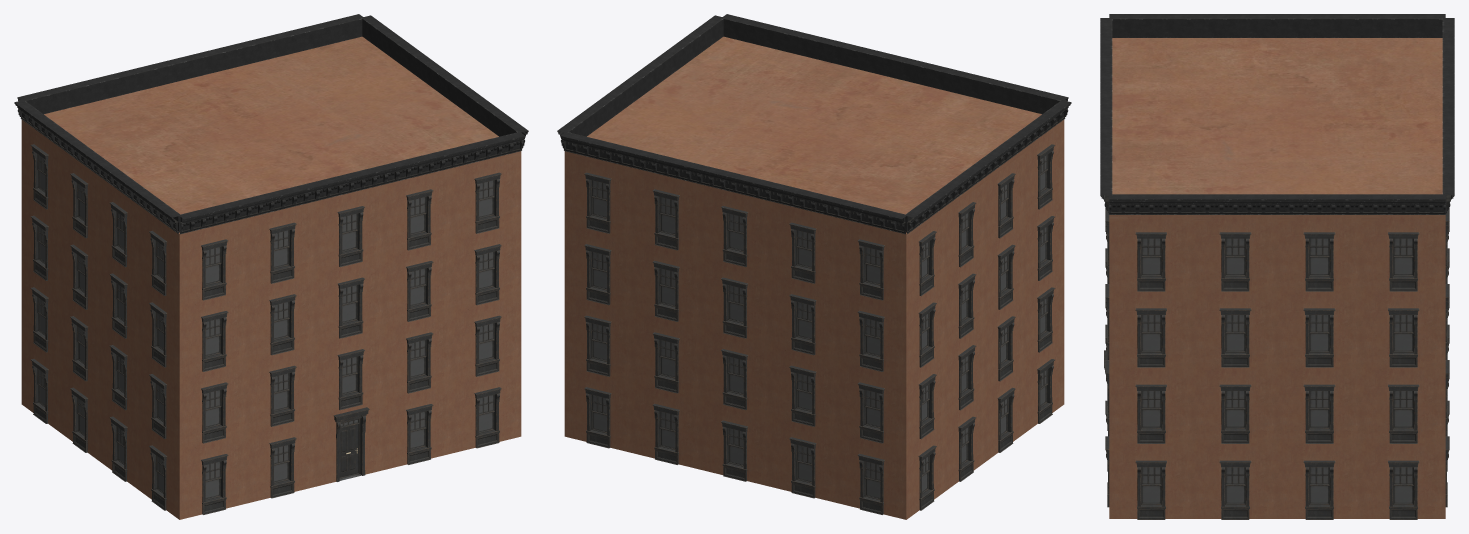
Rendered from place-apartments.glb.
3 renders of one model, left to right at view 1: azimuth 30°, elevation 25°; view 2: azimuth 150°, elevation 25°; view 3: azimuth 270°, elevation 25°, orthographic. The views are drawn at different scales.
Parts seen in each view (by area): view 1: wall_window_centered_small_01.001; view 2: wall_window_centered_small_01.001; view 3: wall_window_centered_small_01.001.
Part boxes in pixels (left/top/right/bottom): wall_window_centered_small_01.001: left=14, top=14, right=528, bottom=519; wall_window_centered_small_01.001: left=557, top=14, right=1071, bottom=519; wall_window_centered_small_01.001: left=1100, top=14, right=1454, bottom=519.
Size of the model in its own units: 15.66 by 12.75 by 12.66.
Materials: 4 (4 with a texture image).
